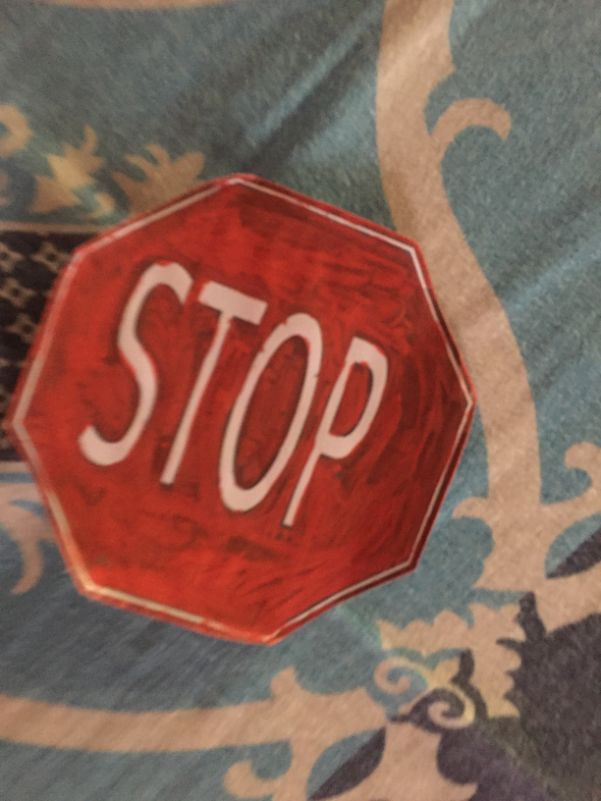stop: (14, 175, 477, 638)
